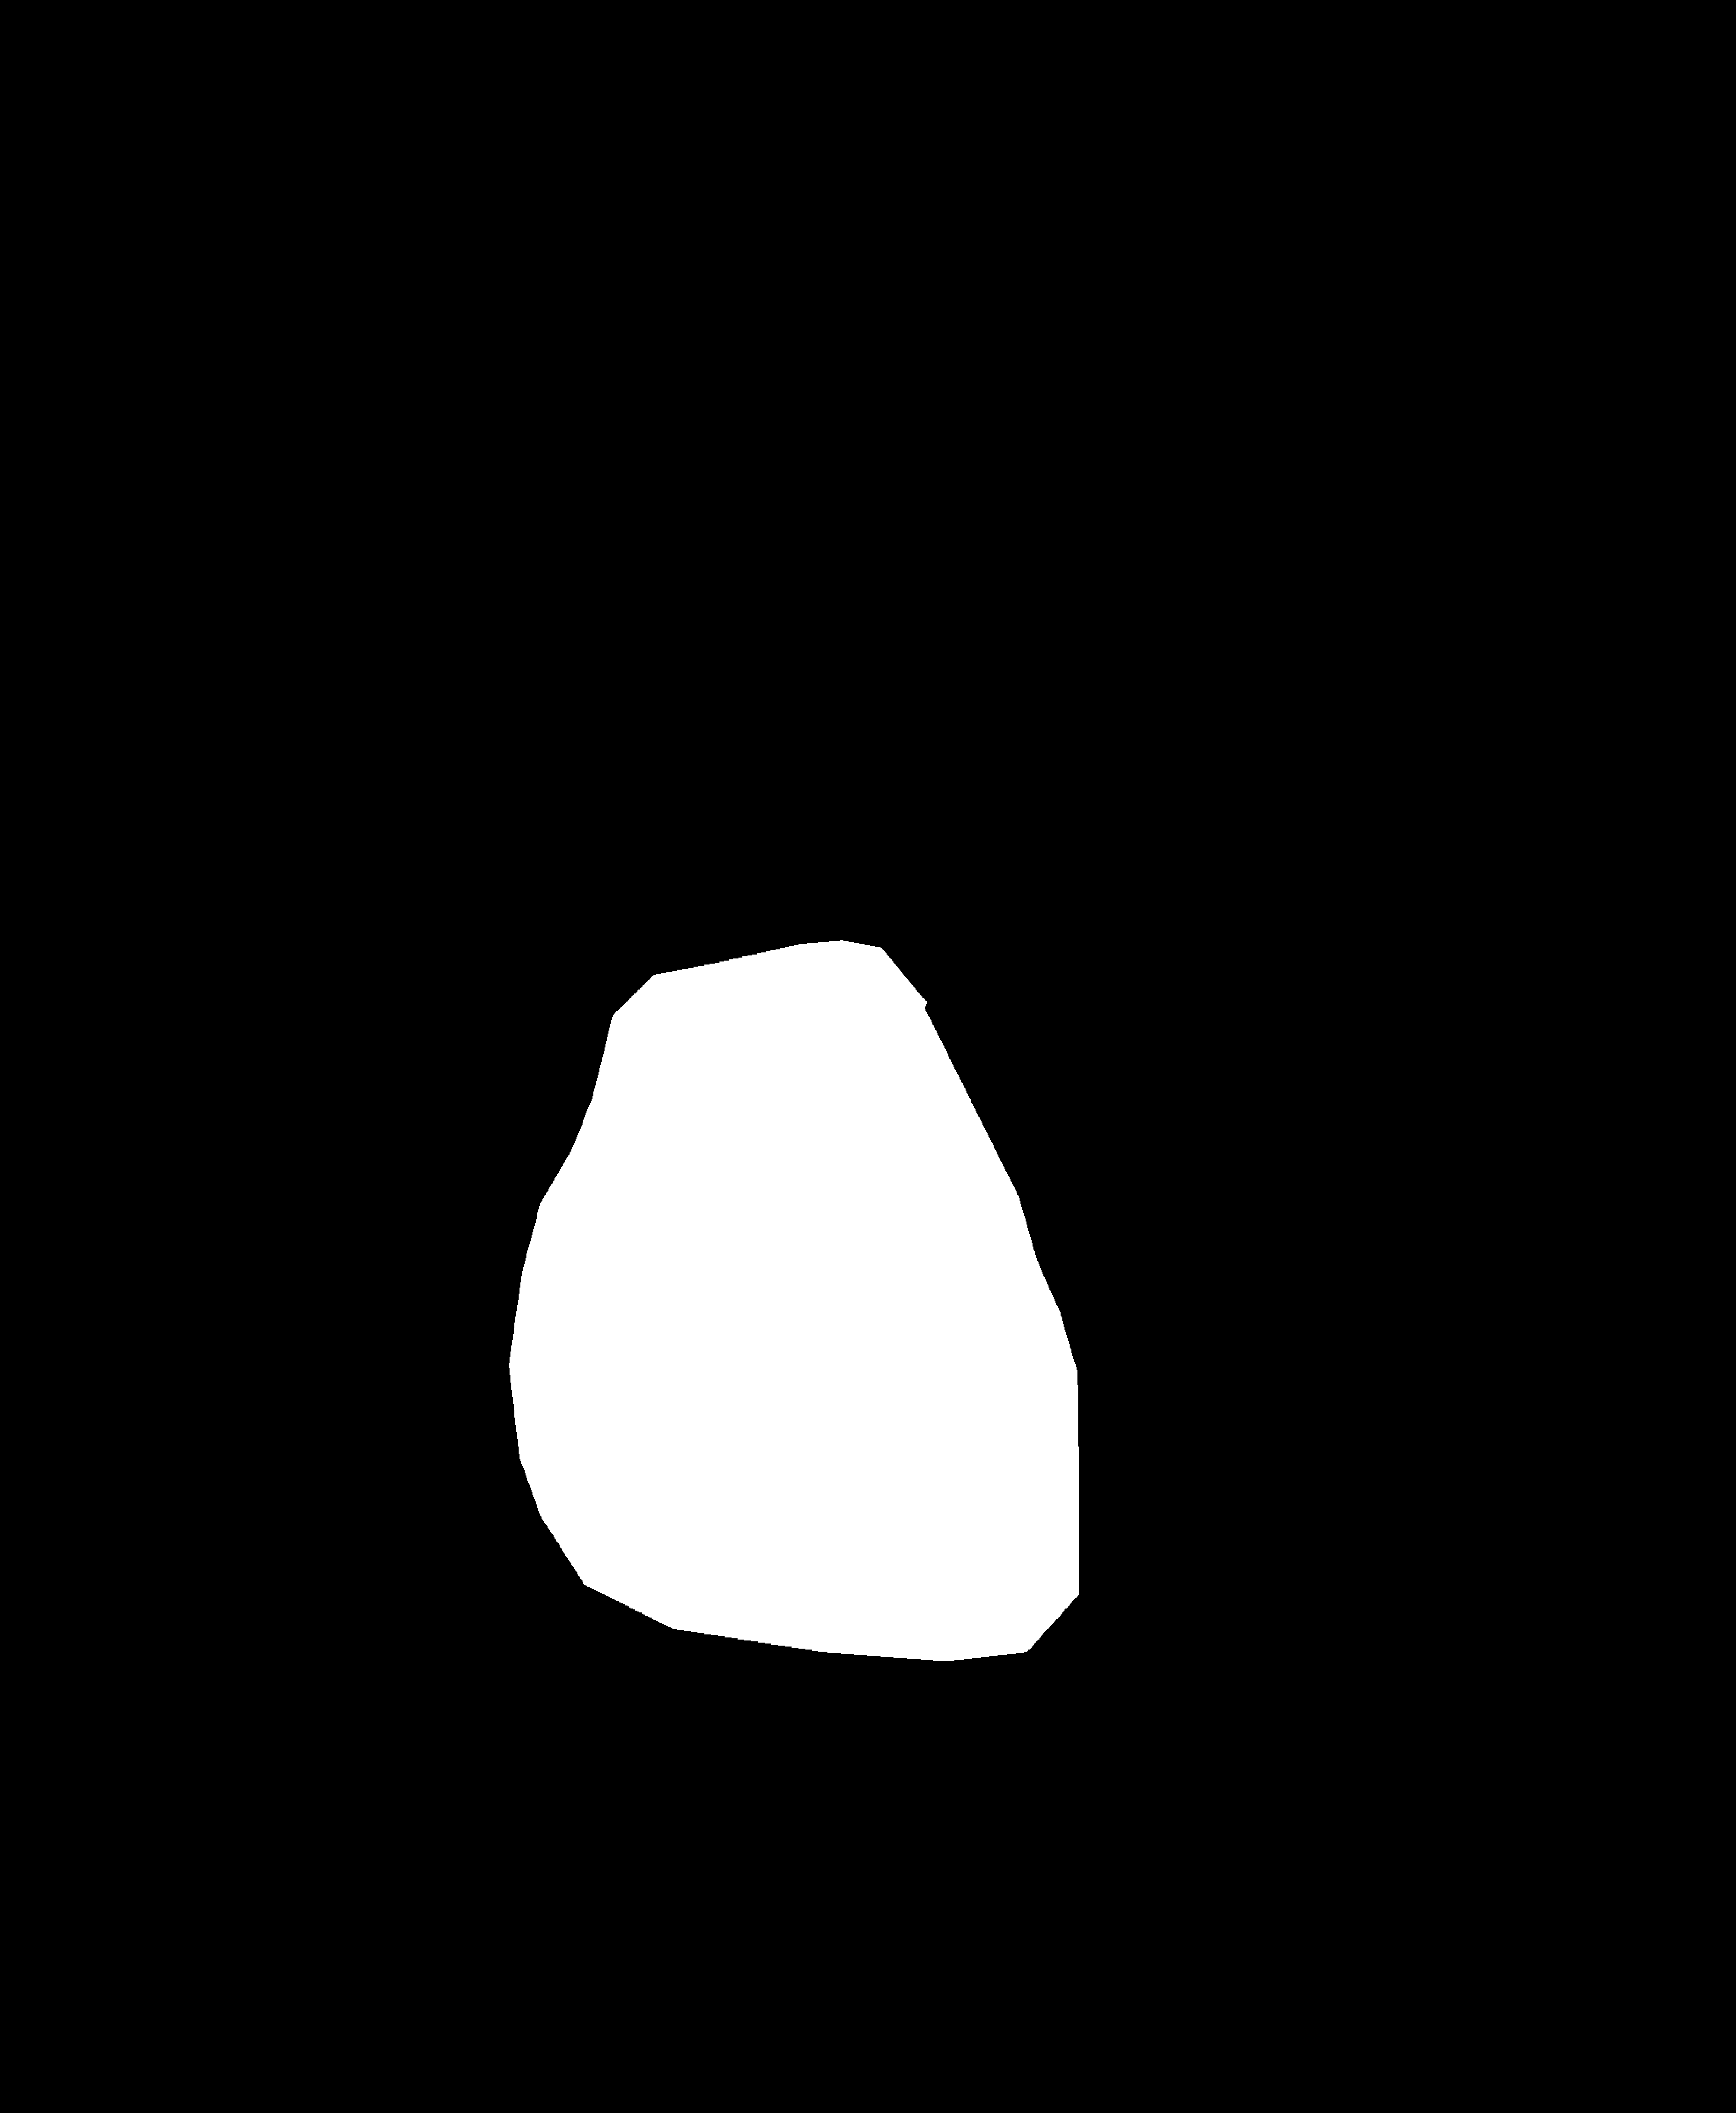heart: (506, 1088, 1081, 1741)
left_lung: (90, 286, 665, 1895)
right_lung: (779, 246, 1552, 1923)
